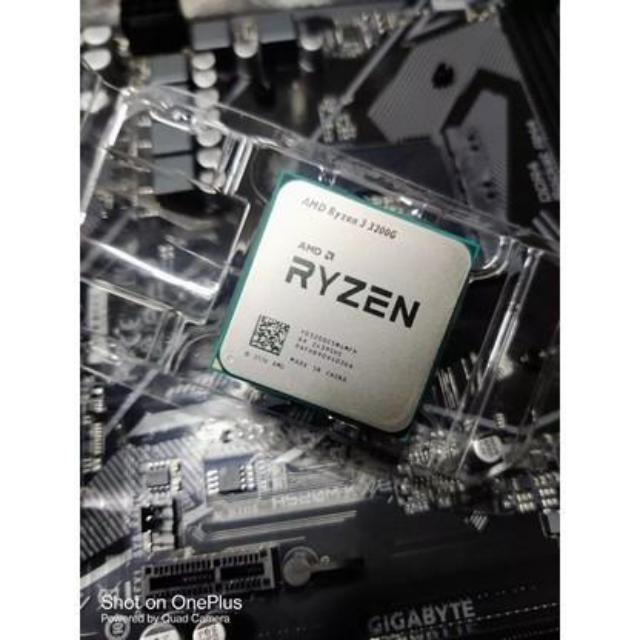CPU: (210, 169, 468, 440)
